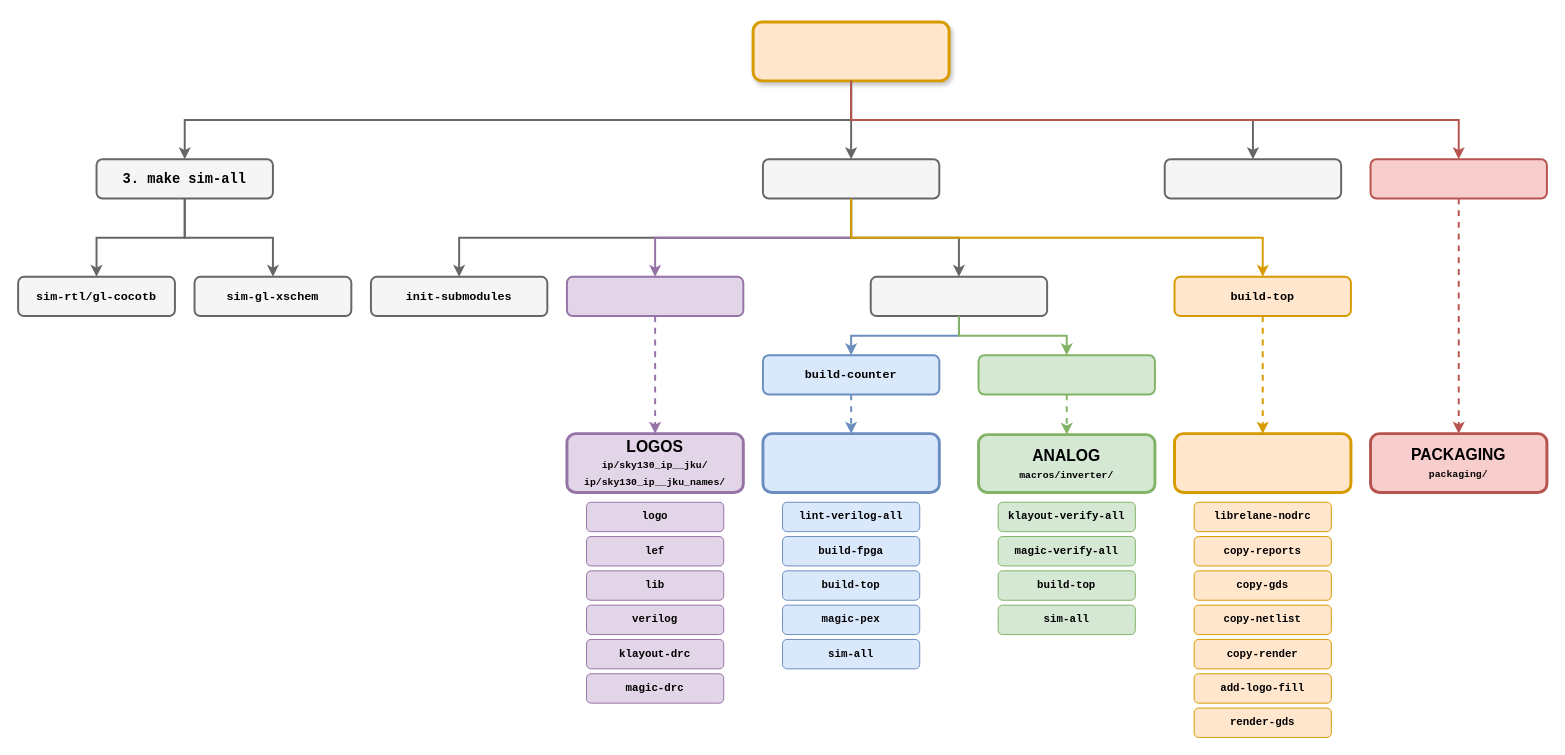
Image size: 1565x755. Some labels were removed from this diagram. Each missing label, with the centre of its shape:
"1. make build-all" belongs at point (850, 178).
"2. make magic-drc" belongs at point (1252, 178).
"4. make bondplan" belongs at point (1458, 178).
"build-inverter" belongs at point (1066, 374).
"build-logos" belongs at point (654, 296).
"build-macros" belongs at point (958, 296).
"DIGITAL macros/counter/" belongs at point (850, 462).
"make all" belongs at point (851, 52).
"TOP CHIP top-level Makefile" belongs at point (1262, 462).
